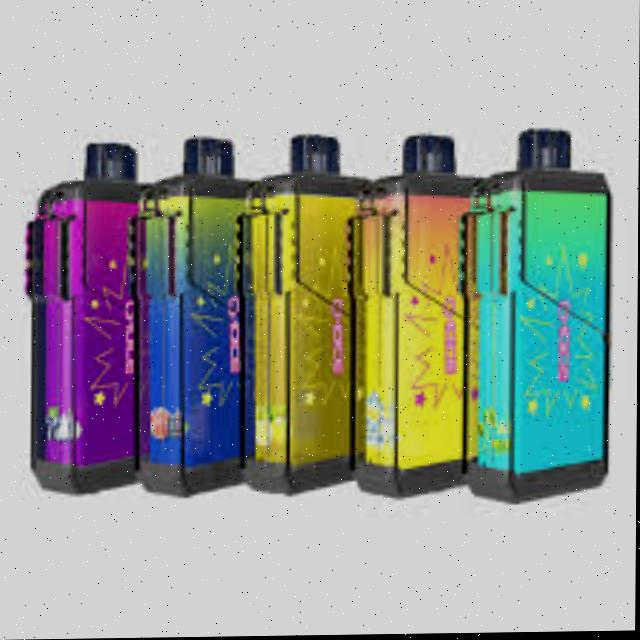vape: (485, 121, 614, 502), (364, 126, 487, 508), (21, 135, 147, 495), (249, 133, 364, 496), (147, 137, 253, 501)
